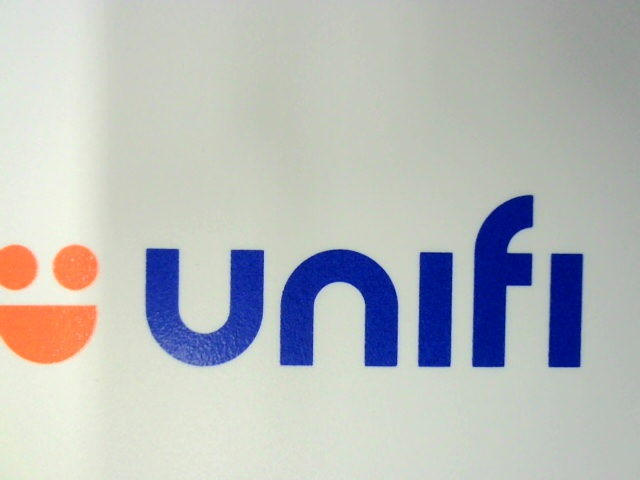BN_unifi: (1, 185, 592, 375)
